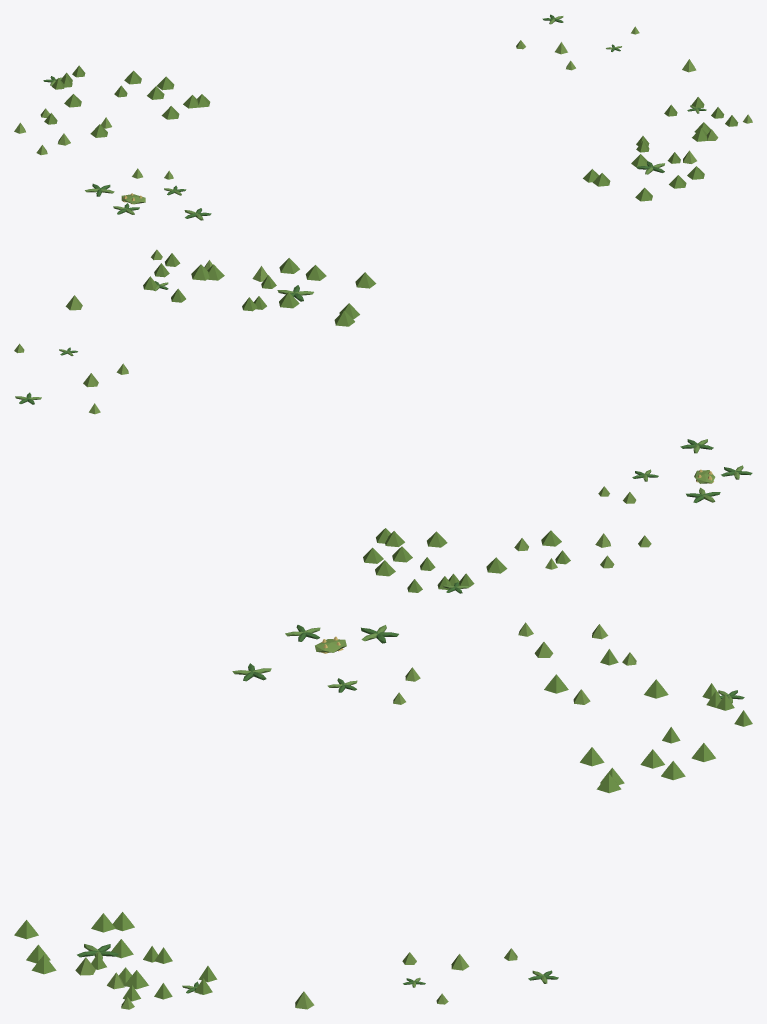
The model's file is path_narrow_pass_nonsolid_props.fbx.
The picture shows the model from 3 angles, top to bottom: view 1: azimuth 30°, elevation 25°; view 2: azimuth 150°, elevation 25°; view 3: azimuth 270°, elevation 25°; orthographic projection. The views are drawn at different scales.
Visible parts, largest first — view 1: chunk_path_narrow_pass__PropsNonSolid; view 2: chunk_path_narrow_pass__PropsNonSolid; view 3: chunk_path_narrow_pass__PropsNonSolid.
Boxes of the visible parts, bbox=[...] form: chunk_path_narrow_pass__PropsNonSolid: bbox=[14, 14, 752, 220]; chunk_path_narrow_pass__PropsNonSolid: bbox=[14, 249, 752, 593]; chunk_path_narrow_pass__PropsNonSolid: bbox=[14, 622, 752, 1009].
Bounding box in the file's own units: 195 × 11.23 × 157.
